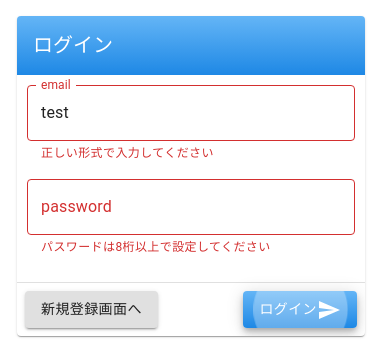
Test case: login › email success
Replace the text in the field labelled "email" with "test@email.com": coordinates (191, 113) [27,85,355,141]
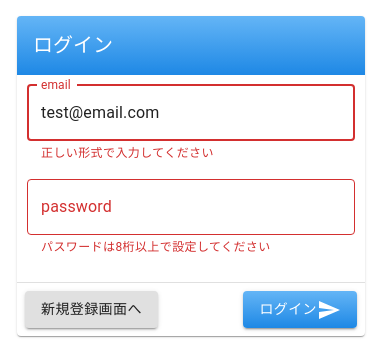
Expected: the field labelled "email" holds "test@email.com", [27,85,355,141]
Click the button with test id "submit": coordinates (300, 311) [243,292,357,329]
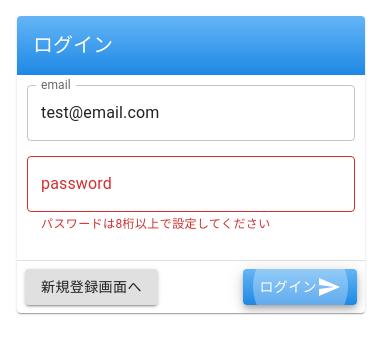
Expected: the text "正しい形式で入力してください" is gone
